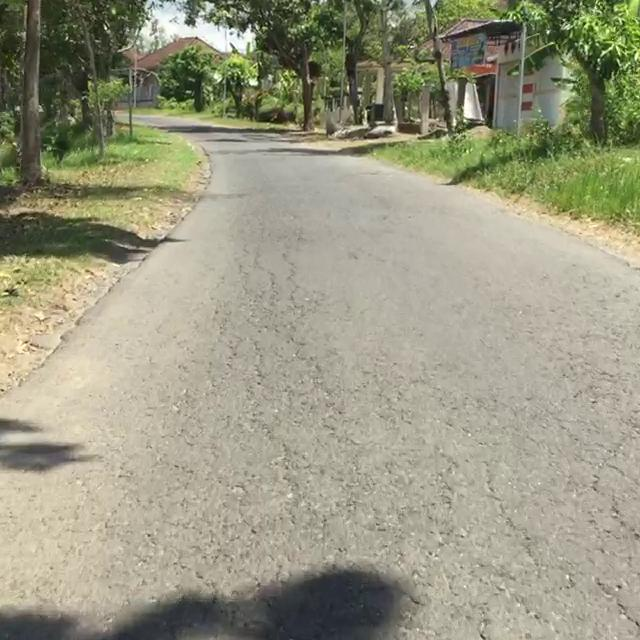retak_memanjang: (575, 557, 640, 640)
